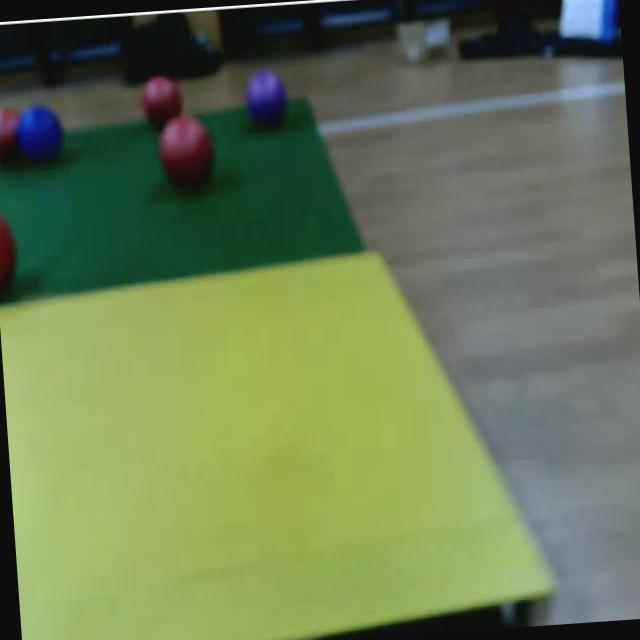blue_ball: (15, 95, 68, 174), (238, 62, 290, 140)
red_ball: (154, 110, 223, 189), (138, 71, 191, 136), (0, 202, 24, 303), (0, 102, 27, 170)
